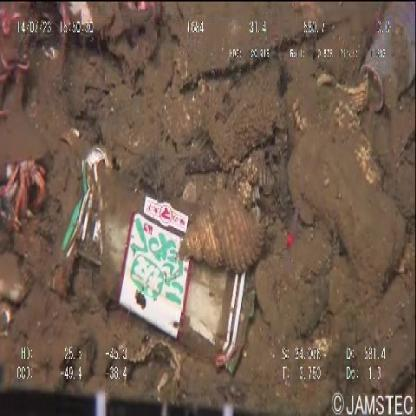Rác: (48, 145, 256, 376), (357, 0, 415, 116)
